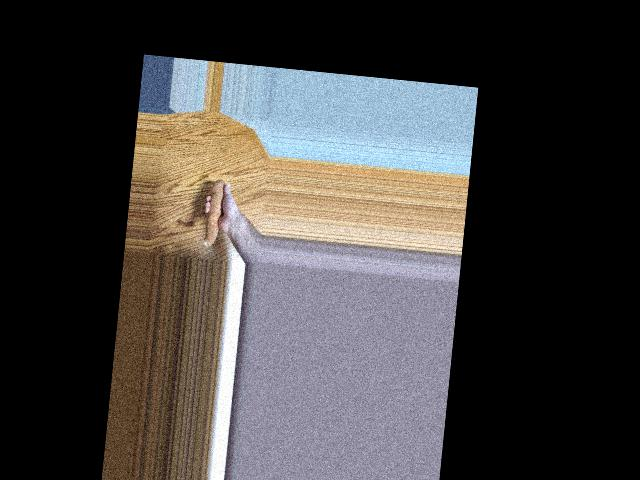sweet_potato: (204, 181, 230, 249)
